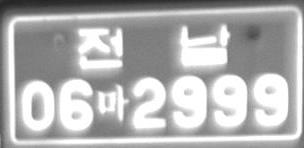0: (20, 78, 55, 131)
2: (133, 75, 167, 130)
6: (59, 77, 95, 131)
9: (253, 71, 290, 128), (171, 74, 208, 128), (212, 72, 248, 127)
마: (98, 83, 129, 122)
전남_D: (77, 23, 230, 70)
